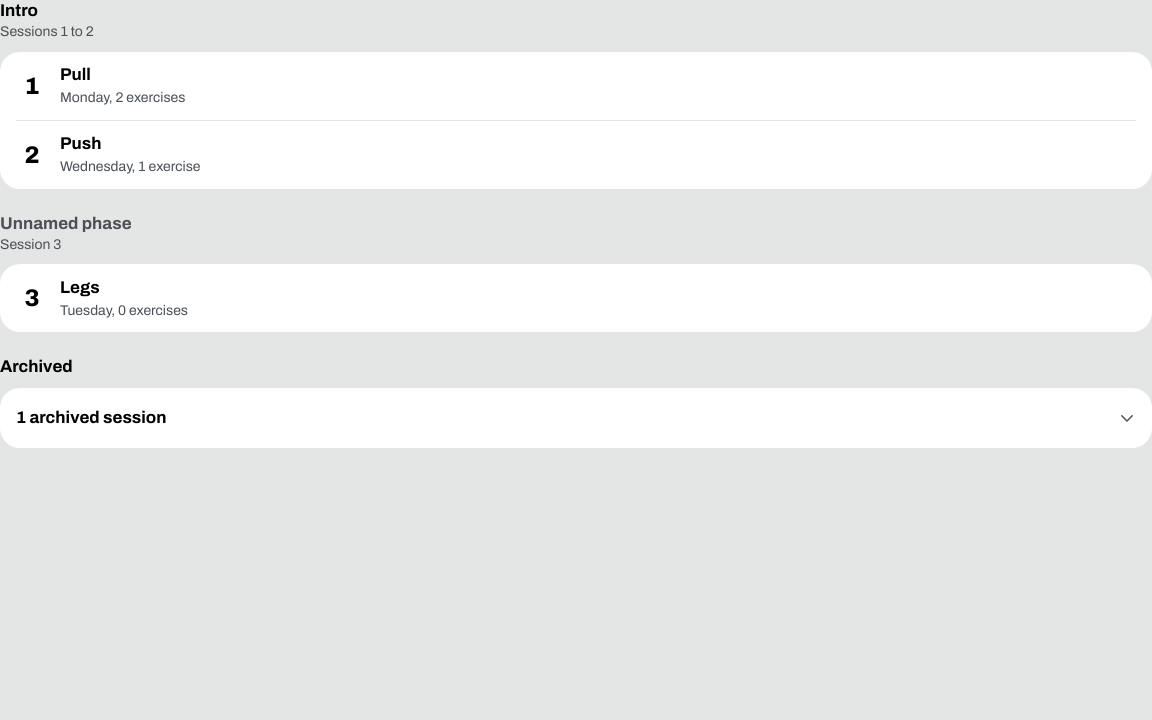
Test: ProgramSheet › an athlete’s draft › shows its archived sessions without a restore
Click the button "1 archived session" at x=91, y=418, box top-left (16, 388), bottom-right (1136, 448)
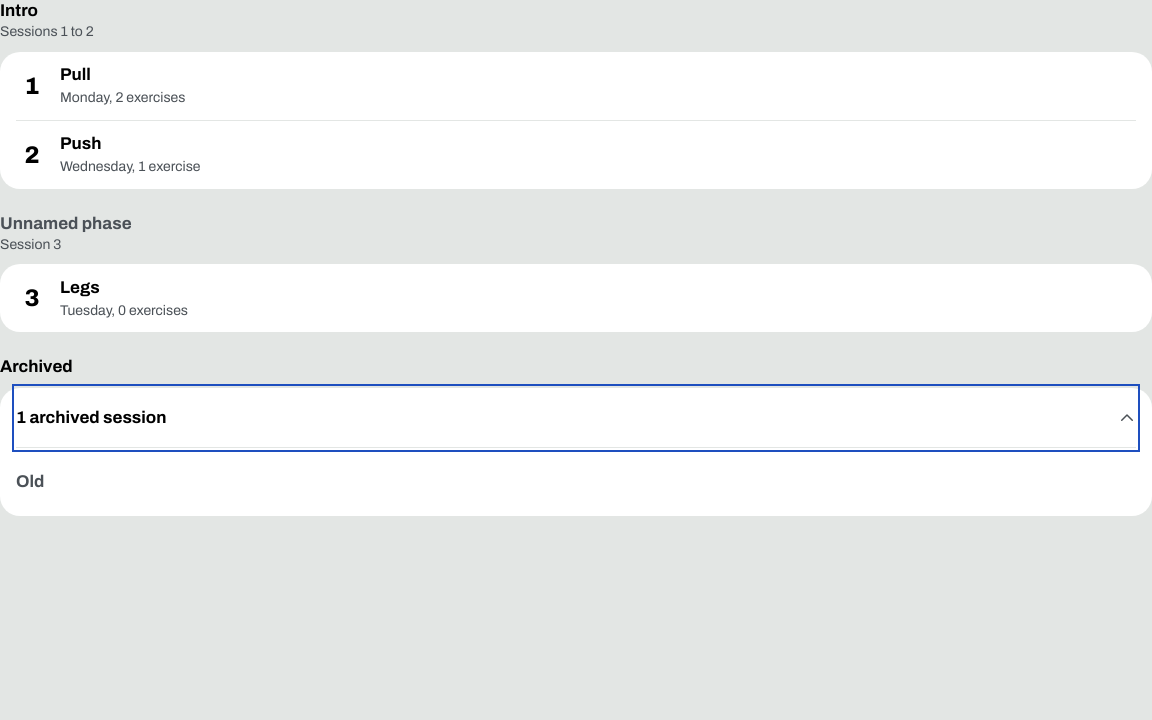
Now the button "Old" is shown, box top-left (16, 460), bottom-right (1136, 504)
